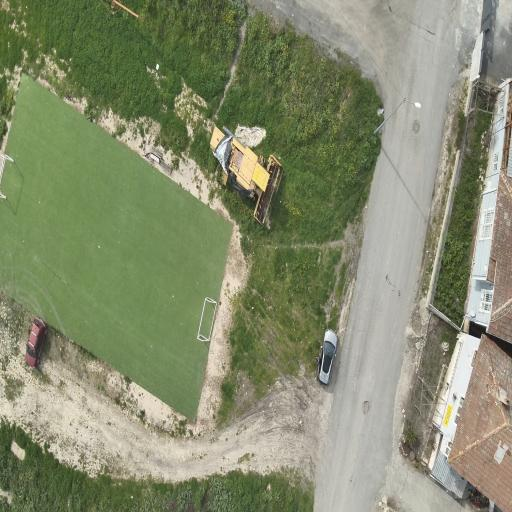car: (317, 329, 337, 385), (26, 318, 46, 367)
harvester: (211, 127, 282, 226)
